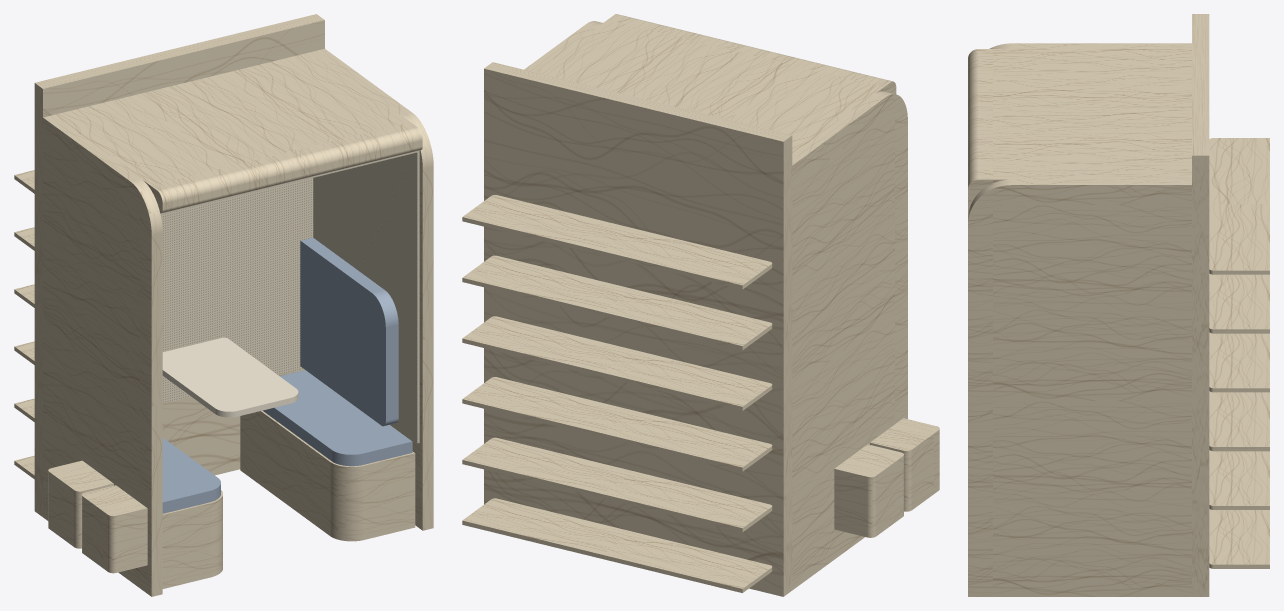
The model's file is Siddeniche_26044_2pers_1550.glb.
3 renders of one model, left to right at view 1: azimuth 30°, elevation 25°; view 2: azimuth 150°, elevation 25°; view 3: azimuth 270°, elevation 25°, orthographic. The views are drawn at different scales.
Visible parts, largest first — view 1: Gavl venstre, Tag, Beklædning bag, Bagvæg, Beklædning højre, Rygpude højre, Bænk højre, Gavl højre, Siddehynde højre, Bordplade, Kasse 2, Bænk venstre (+3 smaller); view 2: Bagvæg, Gavl venstre, Tag, Skohylde 4, Skohylde 5, Skohylde 1, Skohylde 2, Skohylde 3, Skohylde 6, Kasse 1, Kasse 2, Gavl højre; view 3: Gavl højre, Tag, Bagvæg, Skohylde 6, Skohylde 5, Skohylde 3, Skohylde 4, Skohylde 1, Skohylde 2, Gavl venstre.
Part boxes in pixels (bbox=[...]): Gavl venstre: bbox=[43, 115, 162, 596]; Tag: bbox=[54, 51, 422, 213]; Beklædning bag: bbox=[161, 178, 313, 403]; Bagvæg: bbox=[34, 14, 324, 516]; Beklædning højre: bbox=[313, 150, 419, 443]; Rygpude højre: bbox=[300, 237, 398, 426]; Bænk højre: bbox=[240, 410, 415, 541]; Gavl højre: bbox=[314, 49, 433, 530]; Siddehynde højre: bbox=[263, 370, 412, 466]; Bordplade: bbox=[162, 337, 298, 417]; Kasse 2: bbox=[82, 485, 147, 573]; Bænk venstre: bbox=[162, 490, 222, 588]; Bagvæg: bbox=[484, 62, 792, 596]; Gavl venstre: bbox=[792, 91, 907, 590]; Tag: bbox=[535, 14, 896, 153]; Skohylde 4: bbox=[462, 316, 772, 410]; Skohylde 5: bbox=[462, 255, 772, 350]; Skohylde 1: bbox=[462, 498, 772, 592]; Skohylde 2: bbox=[462, 437, 772, 532]; Skohylde 3: bbox=[462, 377, 772, 471]; Skohylde 6: bbox=[462, 195, 772, 289]; Kasse 1: bbox=[834, 444, 903, 537]; Kasse 2: bbox=[870, 418, 939, 511]; Gavl højre: bbox=[524, 21, 602, 72]; Gavl højre: bbox=[968, 179, 1191, 596]; Tag: bbox=[968, 49, 1191, 200]; Bagvæg: bbox=[1192, 14, 1209, 596]; Skohylde 6: bbox=[1209, 138, 1269, 274]; Skohylde 5: bbox=[1209, 273, 1269, 333]; Skohylde 3: bbox=[1209, 391, 1269, 451]; Skohylde 4: bbox=[1209, 332, 1269, 392]; Skohylde 1: bbox=[1209, 509, 1269, 568]; Skohylde 2: bbox=[1209, 450, 1269, 509]; Gavl venstre: bbox=[968, 43, 1191, 215].
Bounding box in the file's own units: 1.75 × 2.25 × 1.4.
Materials: 7 (4 with a texture image).
